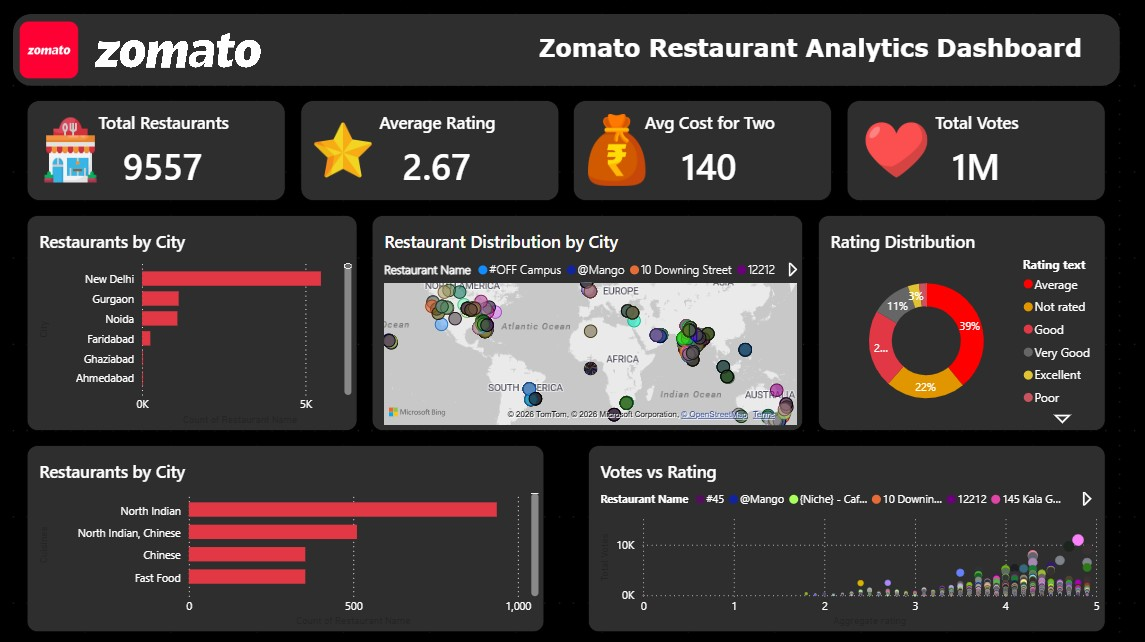

Layout of this report page (visuals, bound fields, positions):
{"tool":"powerbi","page":{"name":"Page 1","canvas":[1280,720],"ordinal":0},"visuals":[{"type":"card","title":"Total Restaurants","fields":{"Values":["zomato.Total Restaurants"]},"box":[32,112,288,112],"z":0},{"type":"card","title":"Average Rating","fields":{"Values":["zomato.Average Rating"]},"box":[336,112,288,112],"z":1000},{"type":"card","title":"Avg Cost for Two","fields":{"Values":["Count(zomato.Average Cost for two)"]},"box":[640,112,288,112],"z":2000},{"type":"card","title":"Total Votes","fields":{"Values":["zomato.Total Votes"]},"box":[944,112,288,112],"z":3000},{"type":"clusteredBarChart","title":"Restaurants by City","fields":{"Category":["zomato.City"],"Y":["CountNonNull(zomato.Restaurant Name)"]},"box":[32,240,368,240],"z":4000},{"type":"clusteredBarChart","title":"Restaurants by City","fields":{"Category":["zomato.Cuisines"],"Y":["CountNonNull(zomato.Restaurant Name)"]},"box":[32,496,576,208],"z":5000},{"type":"map","title":"Restaurant Distribution by City","fields":{"Y":["zomato.Latitude"],"X":["zomato.Longitude"],"Series":["zomato.Restaurant Name"]},"box":[416,240,480,240],"z":6000},{"type":"donutChart","title":"Rating Distribution","fields":{"Y":["CountNonNull(zomato.Rating Category)"],"Category":["zomato.Rating text"]},"box":[912,240,320,240],"z":7000},{"type":"scatterChart","title":"Votes vs Rating","fields":{"X":["zomato.Aggregate rating"],"Y":["zomato.Total Votes"],"Size":["Sum(zomato.Votes)"],"Series":["zomato.Restaurant Name"]},"box":[656,496,576,208],"z":8000},{"type":"shape","title":"Zomato Restaurant Analytics Dashboard","box":[16,16,1232,80],"z":9000},{"type":"textbox","box":[576,32,656,48],"z":10000},{"type":"image","box":[16,16,80,80],"z":11000},{"type":"image","box":[96,16,208,80],"z":12000},{"type":"image","box":[48,128,64,80],"z":13000},{"type":"image","box":[352,128,64,80],"z":14000},{"type":"image","box":[656,128,64,80],"z":15000},{"type":"image","box":[960,128,80,80],"z":16000}]}

Visuals, with their boxes in screenshot pixels (x1, y1, x2, y2), scaled from the page's 1280x720 canvas onto the 1145x642 screenshot:
"Total Restaurants" card: region(29, 100, 286, 200)
"Average Rating" card: region(301, 100, 558, 200)
"Avg Cost for Two" card: region(572, 100, 830, 200)
"Total Votes" card: region(844, 100, 1102, 200)
"Restaurants by City" clusteredBarChart: region(29, 214, 358, 428)
"Restaurants by City" clusteredBarChart: region(29, 442, 544, 628)
"Restaurant Distribution by City" map: region(372, 214, 802, 428)
"Rating Distribution" donutChart: region(816, 214, 1102, 428)
"Votes vs Rating" scatterChart: region(587, 442, 1102, 628)
"Zomato Restaurant Analytics Dashboard" shape: region(14, 14, 1116, 86)
textbox: region(515, 29, 1102, 71)
image: region(14, 14, 86, 86)
image: region(86, 14, 272, 86)
image: region(43, 114, 100, 185)
image: region(315, 114, 372, 185)
image: region(587, 114, 644, 185)
image: region(859, 114, 930, 185)
